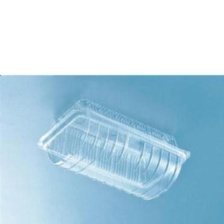plastic_box: (30, 90, 198, 207)
